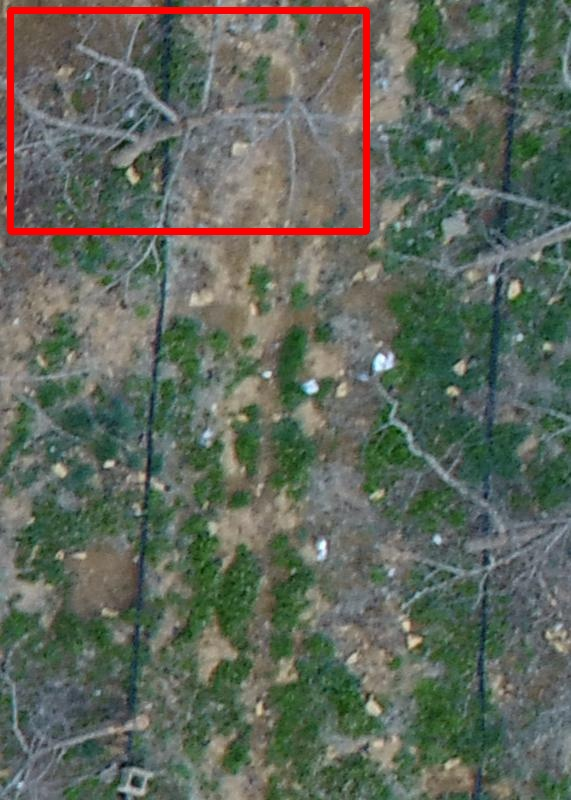apple: (10, 10, 366, 231)
